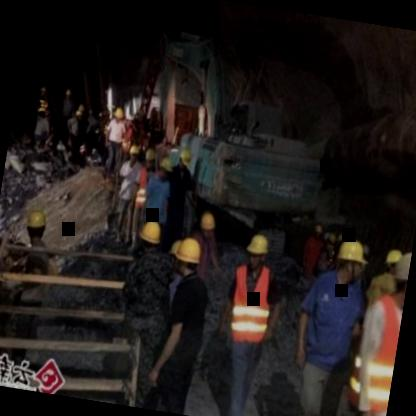helmet: (330, 233, 369, 286), (166, 233, 203, 280), (389, 248, 412, 306), (137, 213, 165, 260), (244, 227, 272, 270), (23, 208, 48, 243), (154, 154, 176, 184), (197, 208, 219, 238), (142, 144, 159, 172), (178, 146, 192, 170)
